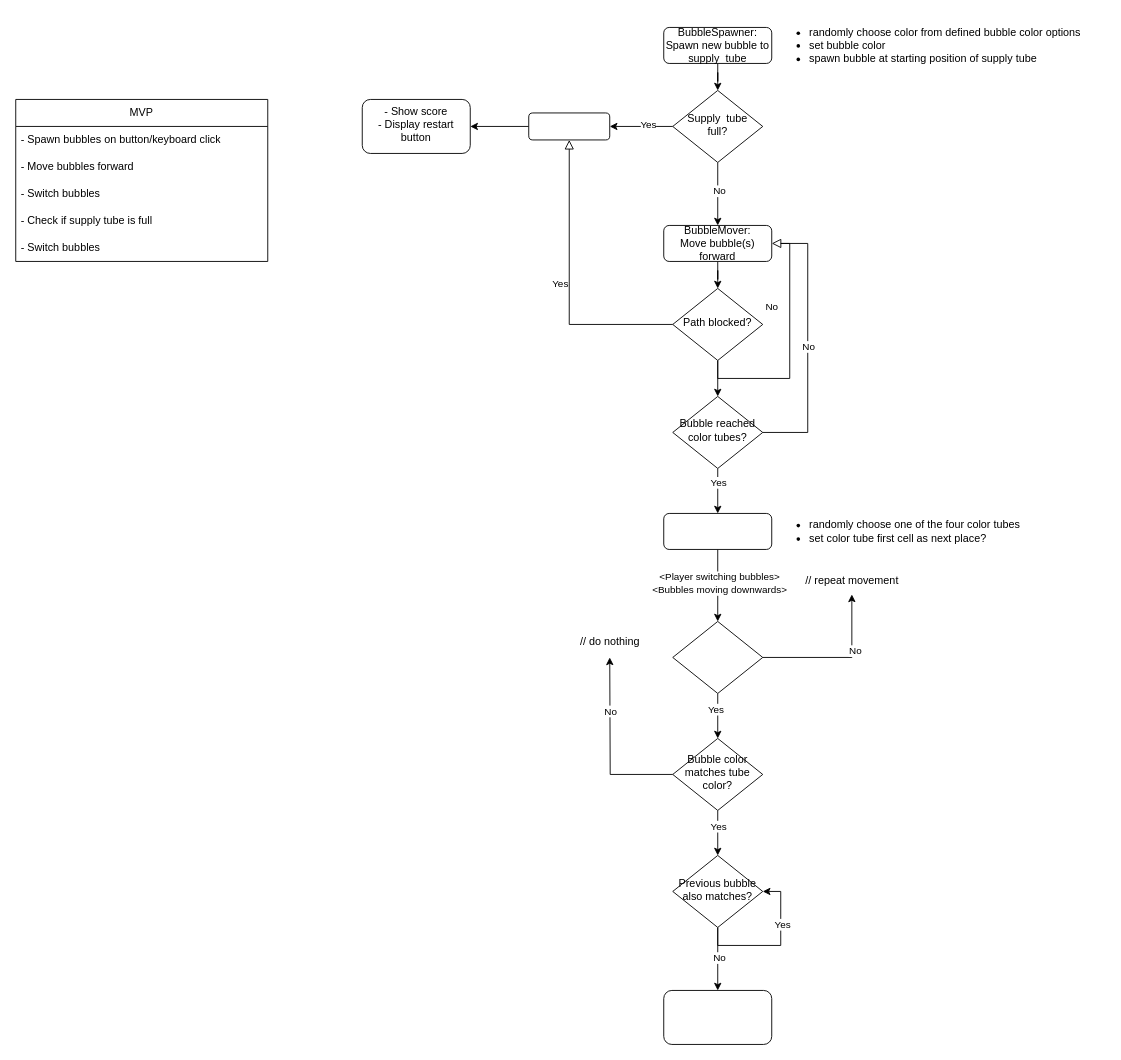
This 1121x1060 diagram has some shape labels left out. Here are the shapes that lost their labels. From the top down, the centre of each, then its label:
point 569,126: Game Over
point 717,531: BubbleSorter: Sort bubble into color tubes
point 717,657: Bubble reached end of color tube?
point 717,1017: - Fall into container - Increaase score
